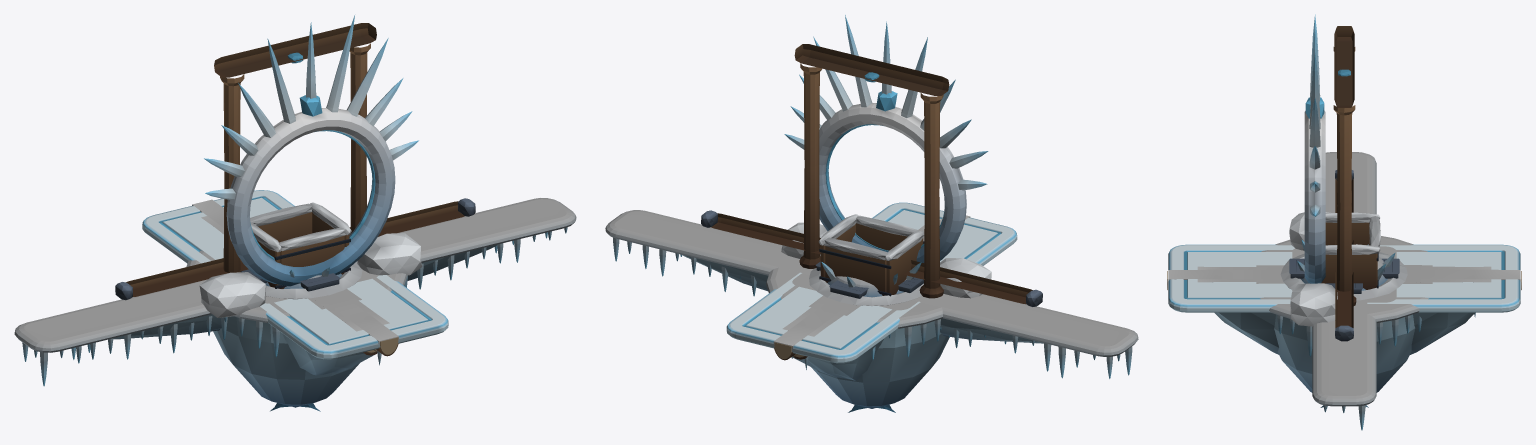
Rendered from glacier-4-CPm6TVW-.glb.
3 views of the same model, side by side, from view 1: azimuth 30°, elevation 25°; view 2: azimuth 150°, elevation 25°; view 3: azimuth 270°, elevation 25° (orthographic). The views are drawn at different scales.
Visible parts, largest first — view 1: portal_#0, block_40x2x4#0, block_10x2x24_ice#0, pressFrame_7.5x6x2.5x7#0, disc_14x1.5#0, hopper_4x3#0, mount_12.7#0, beam_1.5x1.5x24#0, geyserVent_3.9#0, beam_2.5x1.5x20_plank#0; view 2: block_40x2x4#0, portal_#0, block_10x2x24_ice#0, pressFrame_7.5x6x2.5x7#0, disc_14x1.5#0, hopper_4x3#0, mount_12.7#0, geyserVent_3.9#0, beam_1.5x1.5x24#0, beam_2.5x1.5x20_plank#0; view 3: block_10x2x24_ice#0, block_40x2x4#0, portal_#0, disc_14x1.5#0, pressFrame_7.5x6x2.5x7#0, hopper_4x3#0, beam_1.5x1.5x24#0, geyserVent_3.9#0, mount_12.7#0, beam_2.5x1.5x20_plank#0, burner_2x1.2x7#0, block_10x2x8#0.
Boxes of the visible parts, x1,y1,x2,y2 form: portal_#0: (199,15,422,317); block_40x2x4#0: (14,198,576,386); block_10x2x24_ice#0: (142,190,448,375); pressFrame_7.5x6x2.5x7#0: (214,23,376,272); disc_14x1.5#0: (186,250,406,407); hopper_4x3#0: (250,202,351,288); mount_12.7#0: (115,198,475,300); beam_1.5x1.5x24#0: (192,199,398,365); geyserVent_3.9#0: (265,261,362,299); beam_2.5x1.5x20_plank#0: (201,216,389,355); block_40x2x4#0: (605,210,1138,378); portal_#0: (781,15,991,298); block_10x2x24_ice#0: (726,202,1017,380); pressFrame_7.5x6x2.5x7#0: (794,44,949,298); disc_14x1.5#0: (766,267,950,408); hopper_4x3#0: (818,214,924,296); mount_12.7#0: (701,210,1042,306); geyserVent_3.9#0: (809,262,923,305); beam_1.5x1.5x24#0: (773,215,970,360); beam_2.5x1.5x20_plank#0: (782,225,924,369); block_10x2x24_ice#0: (1168,244,1520,354); block_40x2x4#0: (1312,152,1376,430); portal_#0: (1289,14,1337,326); disc_14x1.5#0: (1260,236,1428,392); pressFrame_7.5x6x2.5x7#0: (1333,26,1356,305); hopper_4x3#0: (1321,212,1380,289); beam_1.5x1.5x24#0: (1167,269,1521,289); geyserVent_3.9#0: (1280,240,1407,300); mount_12.7#0: (1335,170,1353,341); beam_2.5x1.5x20_plank#0: (1197,266,1491,317); burner_2x1.2x7#0: (1289,258,1399,278); block_10x2x8#0: (1292,246,1396,302).
Size of the model in its own units: 40.36 by 29.01 by 24.12.
